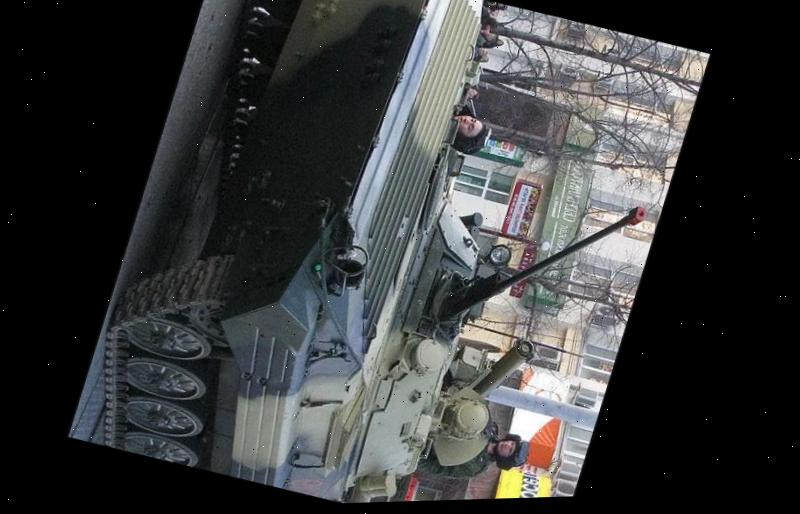tank: (86, 0, 632, 511)
